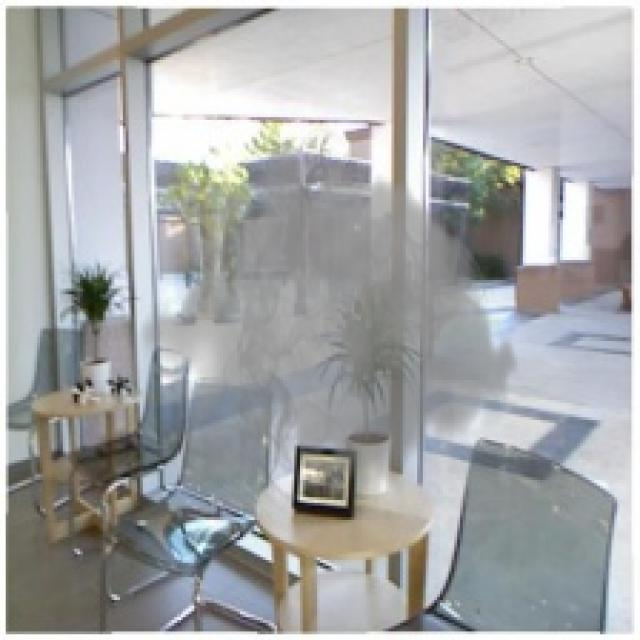smoke: (137, 126, 520, 520)
